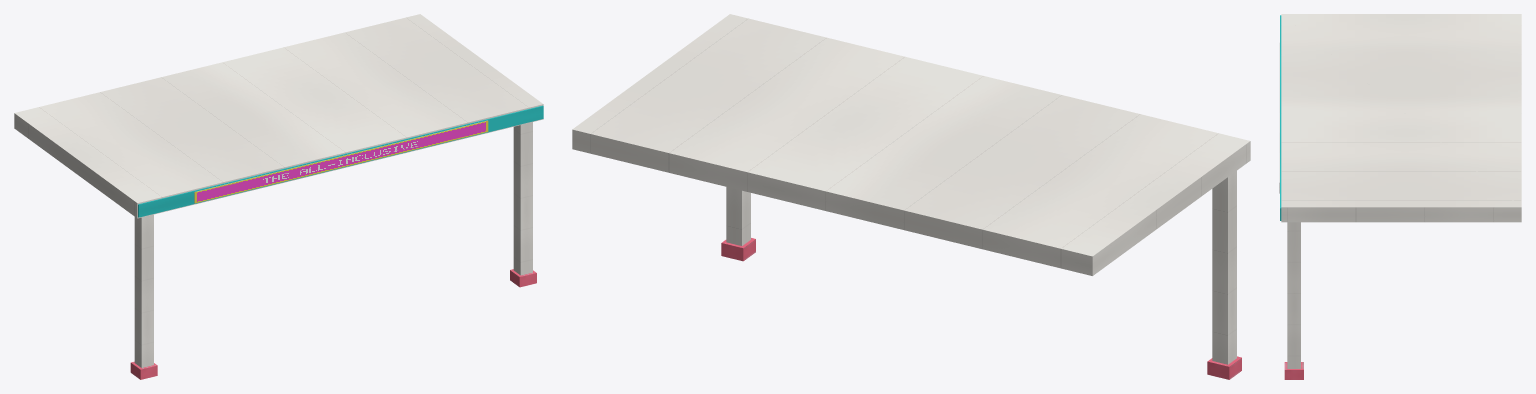
File: p_ai_canopy.glb
3 views of the same model, side by side, from view 1: azimuth 30°, elevation 25°; view 2: azimuth 150°, elevation 25°; view 3: azimuth 270°, elevation 25° (orthographic). The views are drawn at different scales.
Visible parts, largest first — view 1: p_ai_canopy_lod0; view 2: p_ai_canopy_lod0; view 3: p_ai_canopy_lod0.
Part boxes in pixels (<box>): p_ai_canopy_lod0: <box>14,14,543,379</box>; p_ai_canopy_lod0: <box>572,14,1250,379</box>; p_ai_canopy_lod0: <box>1279,14,1521,379</box>.
Size of what is drawn, in the model's own units: 16.6 by 7 by 8.79.
2 materials, 1 textured.
